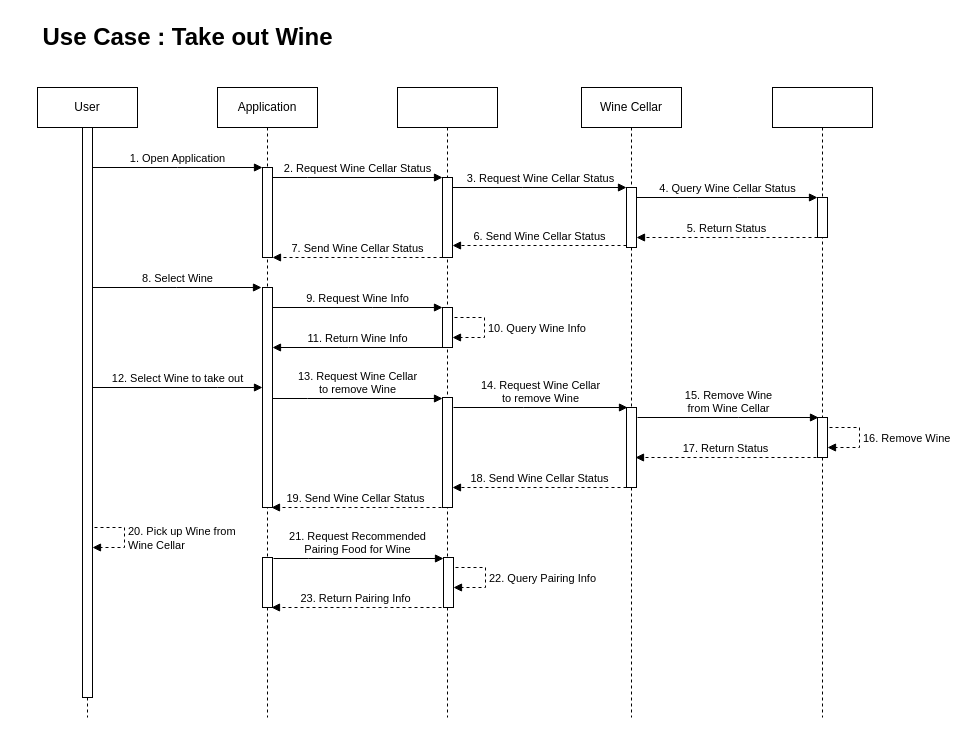
Some shapes in this 967 by 735 pixel diagram are drawn without their labels. Here are the shapes that lost their labels. From the top down, the box of each, then its label:
(396, 86, 498, 718): Server
(772, 86, 872, 718): Database
